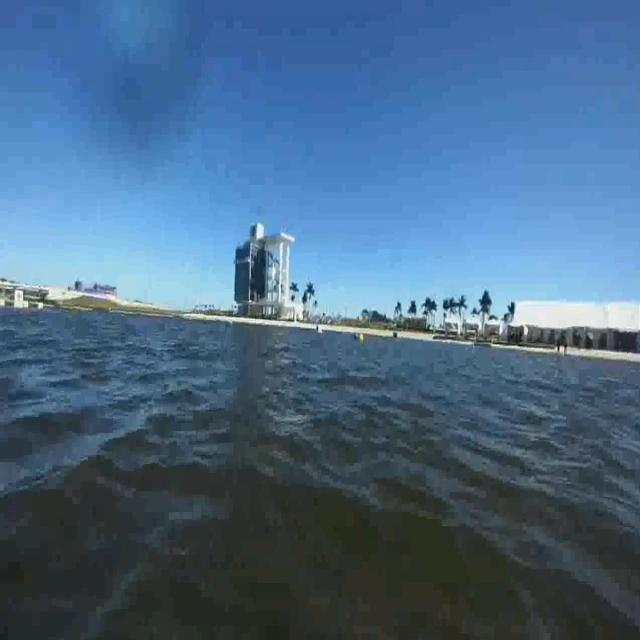yellow-buoy: (359, 334, 365, 345)
